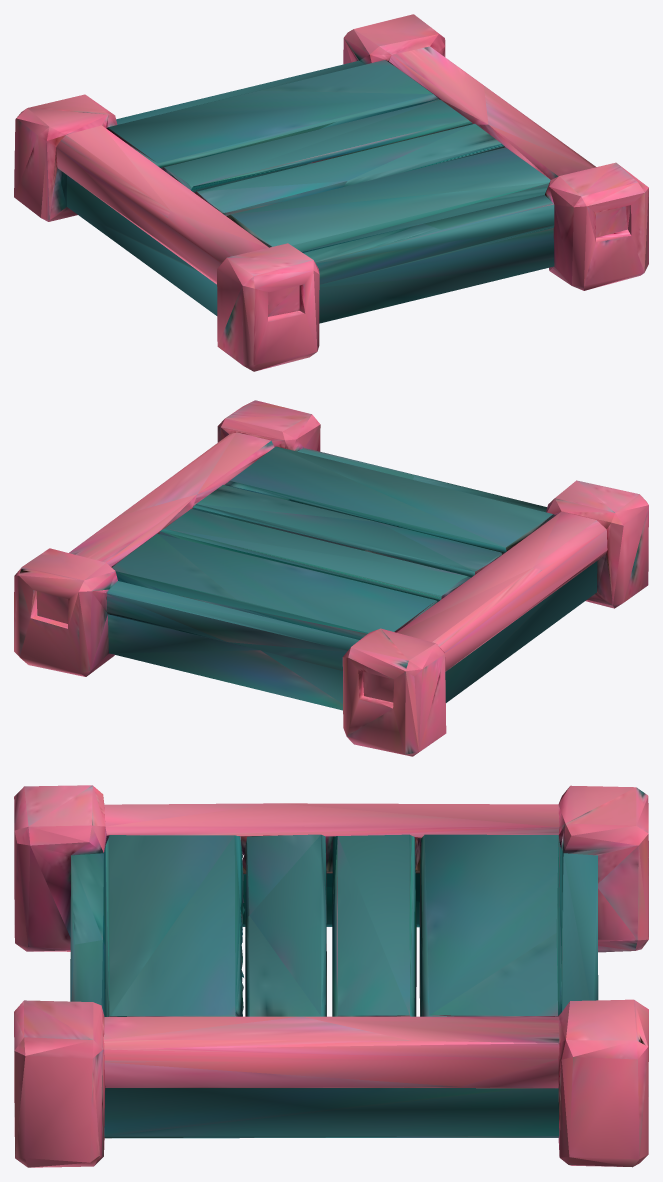
File: conveyer.glb
3 renders of one model, top to bottom at view 1: azimuth 30°, elevation 25°; view 2: azimuth 150°, elevation 25°; view 3: azimuth 270°, elevation 25°, orthographic. The views are drawn at different scales.
Visible parts, largest first — view 1: temp; view 2: temp; view 3: temp.
Part boxes in pixels (x1,y1,x2,y2): temp: [14, 14, 648, 371]; temp: [14, 400, 648, 756]; temp: [14, 785, 648, 1167].
Bounding box in the file's own units: 1.98 × 0.4493 × 2.
1 material, 1 textured.
